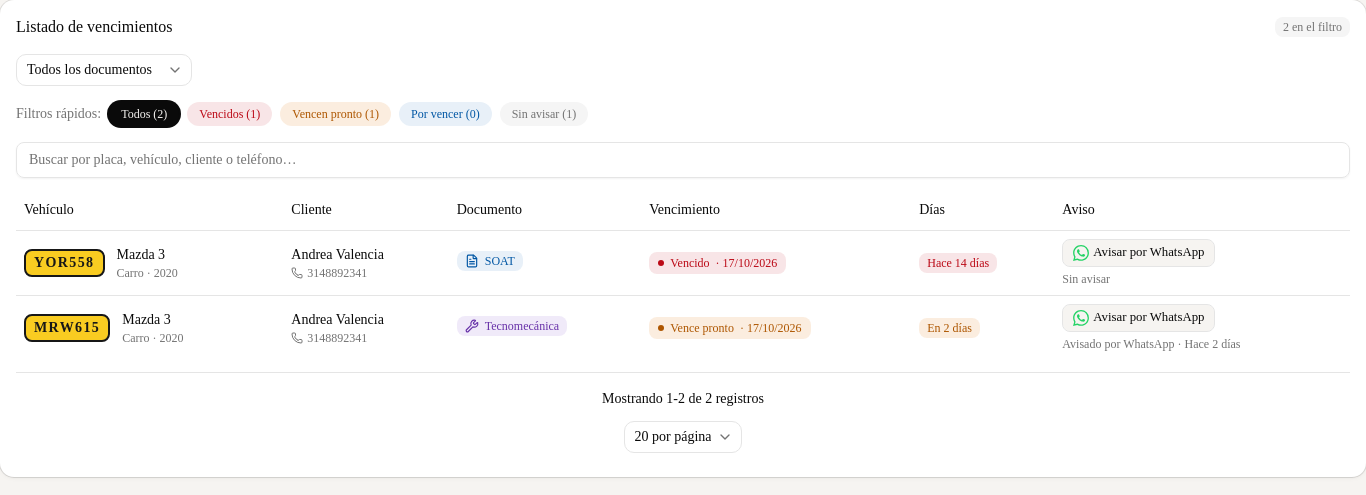
Test: VencimientosTable › el buscador sigue visible y conserva el texto cuando un chip no deja filas
The width and height of the screenshot is (1366, 495).
Step 1. Type "mazda" into the search field → (683, 160), box [16,142,1350,178]
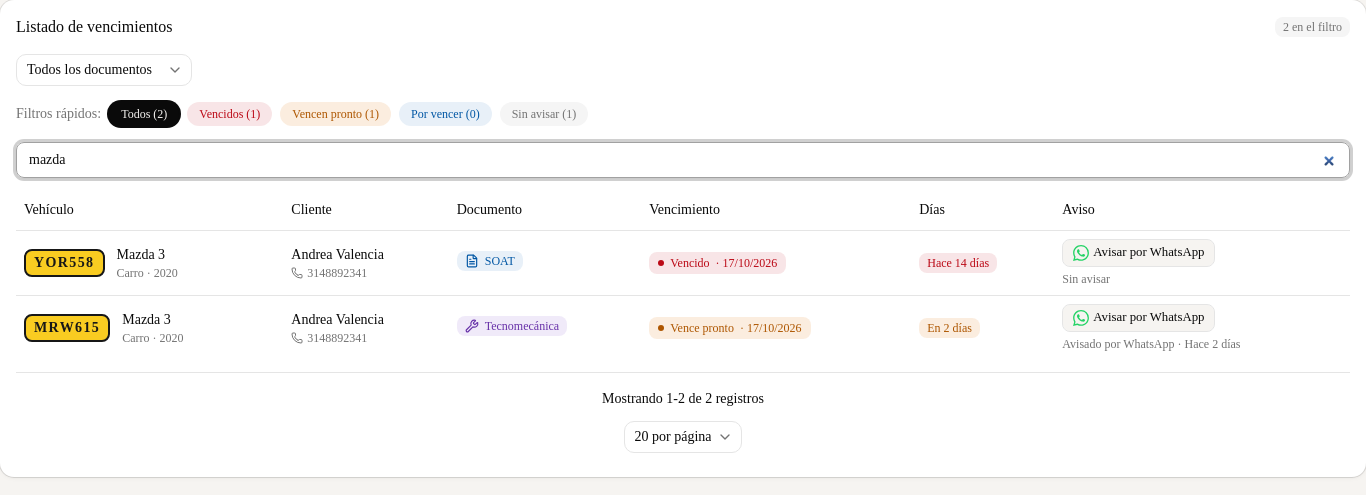
Step 2. Click the button "Por vencer (0)" → (445, 114), box [399,102,492,126]
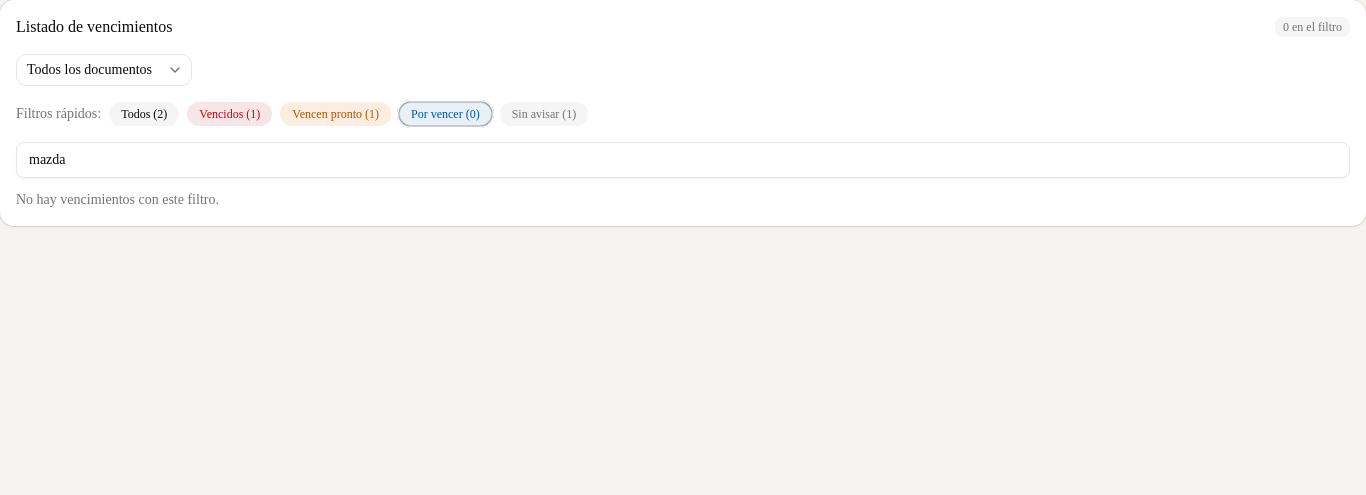
expect the text "No hay vencimientos con este filtro." is shown: met, box [16,192,219,207]
